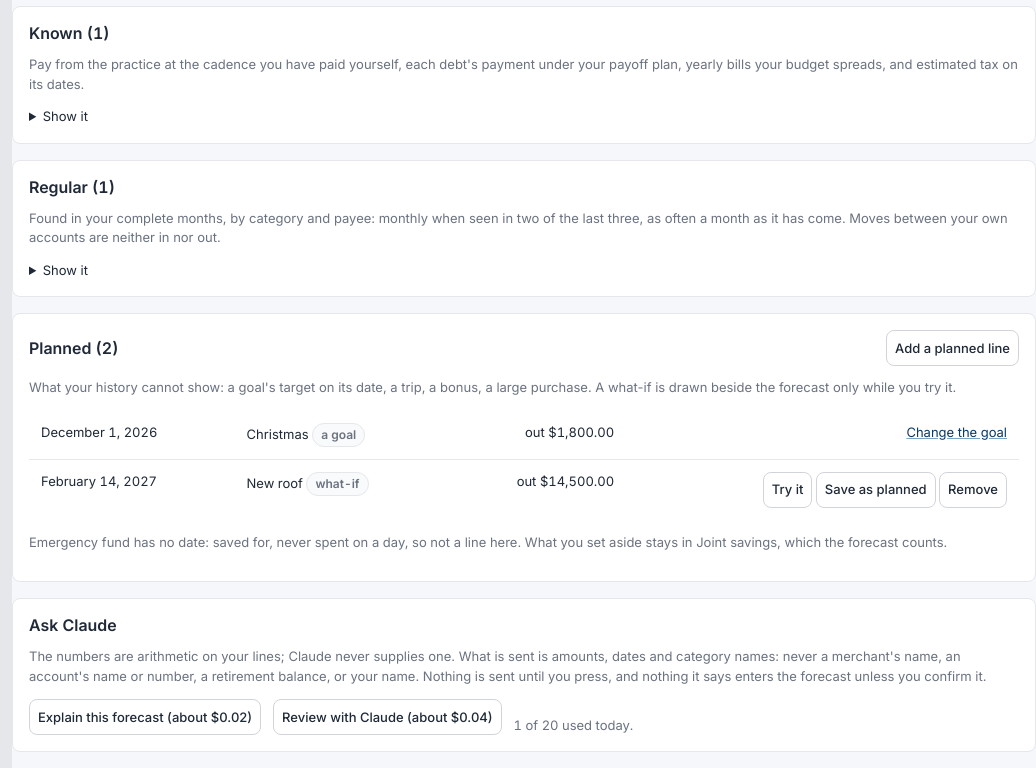
Test: the personal forecast (P6 M4 stop 3) › tries a what-if by asking the server, and saves nothing
(page scrolled)
Click the button with aria-label "Try New roof". click: (788,490)
box: [763, 472, 812, 508]
(page scrolled)
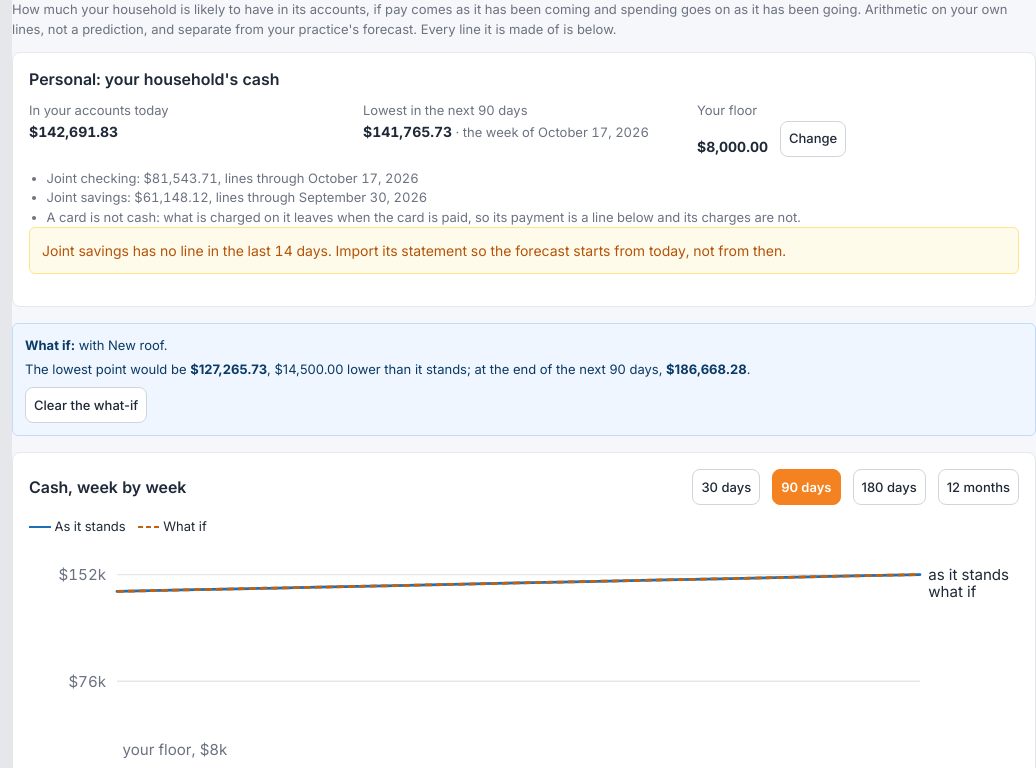
Expected: the message named "The what-if" shows "with New roof", [79, 337, 164, 353]
Expected: the message named "The what-if" shows "$14,500.00 lower than it stands", [274, 360, 467, 376]
